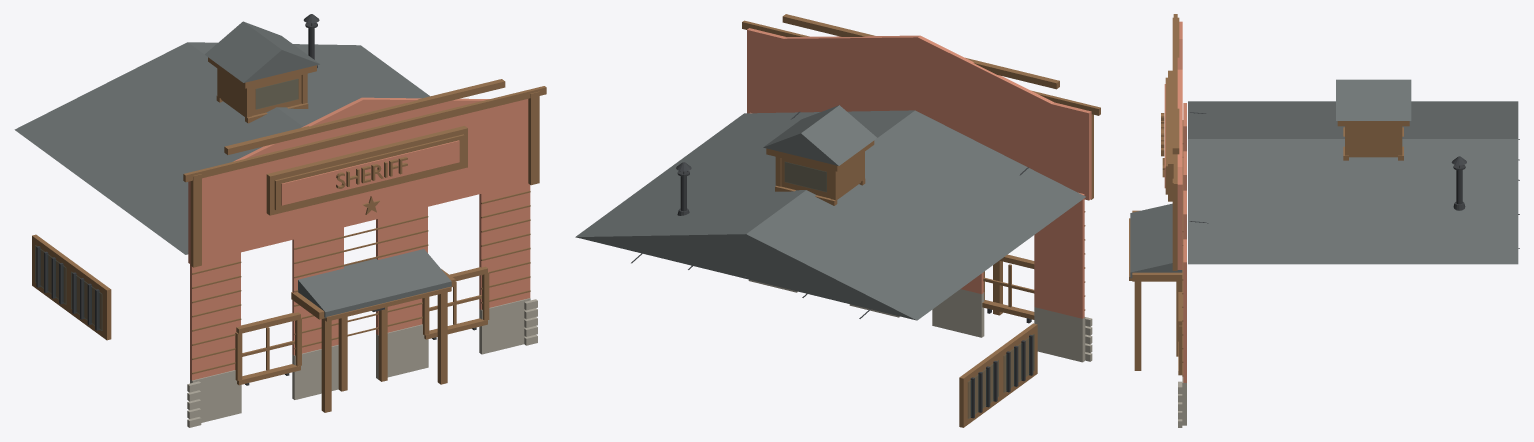
File: sheriff-building.glb
3 renders of one model, left to right at view 1: azimuth 30°, elevation 25°; view 2: azimuth 150°, elevation 25°; view 3: azimuth 270°, elevation 25°, orthographic. The views are drawn at different scales.
Parts seen in each view (by area): view 1: Sheriff Building paint, Sheriff Building roof, Sheriff Building wood, Sheriff Building stone, Sheriff Building glass, Sheriff Building iron; view 2: Sheriff Building roof, Sheriff Building paint, Sheriff Building wood, Sheriff Building stone, Sheriff Building iron, Sheriff Building glass; view 3: Sheriff Building roof, Sheriff Building wood, Sheriff Building paint, Sheriff Building iron, Sheriff Building stone.
Part boxes in pixels (x1,y1,x2,y2): Sheriff Building paint: (188, 97, 530, 380); Sheriff Building roof: (14, 21, 451, 318); Sheriff Building wood: (32, 57, 546, 412); Sheriff Building stone: (187, 298, 537, 427); Sheriff Building glass: (35, 79, 298, 330); Sheriff Building iron: (36, 14, 476, 385); Sheriff Building roof: (575, 105, 1085, 320); Sheriff Building paint: (747, 28, 1091, 318); Sheriff Building wood: (742, 14, 1100, 427); Sheriff Building stone: (748, 279, 1092, 362); Sheriff Building iron: (631, 111, 1033, 418); Sheriff Building glass: (784, 162, 1034, 418); Sheriff Building roof: (1130, 79, 1518, 278); Sheriff Building wood: (1129, 14, 1409, 376); Sheriff Building paint: (1164, 21, 1186, 382); Sheriff Building iron: (1189, 112, 1519, 248); Sheriff Building stone: (1178, 376, 1186, 427).
Bounding box in the file's own units: 10.12 × 7.45 × 9.56.
